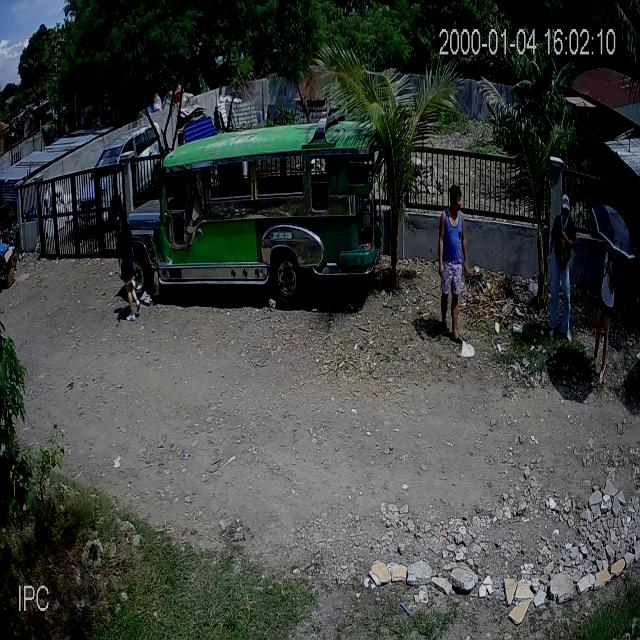standing: (548, 198, 579, 340), (588, 243, 616, 390)
walking: (438, 185, 473, 348), (116, 208, 144, 322)
